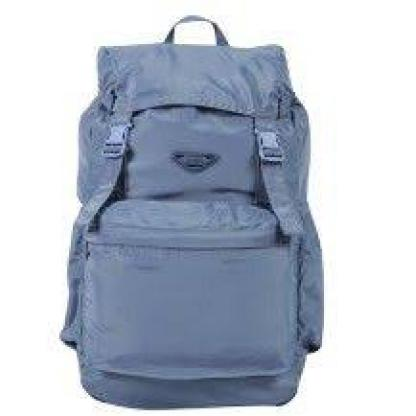morral: (59, 6, 345, 414)
